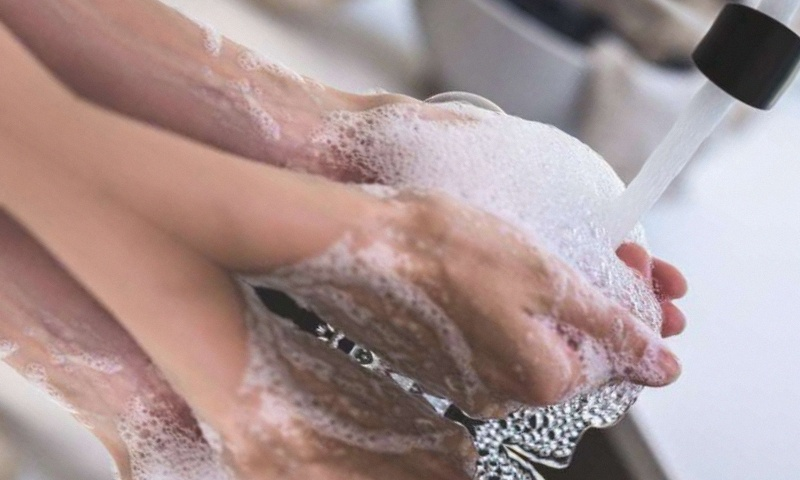washing hand: (292, 0, 799, 479)
